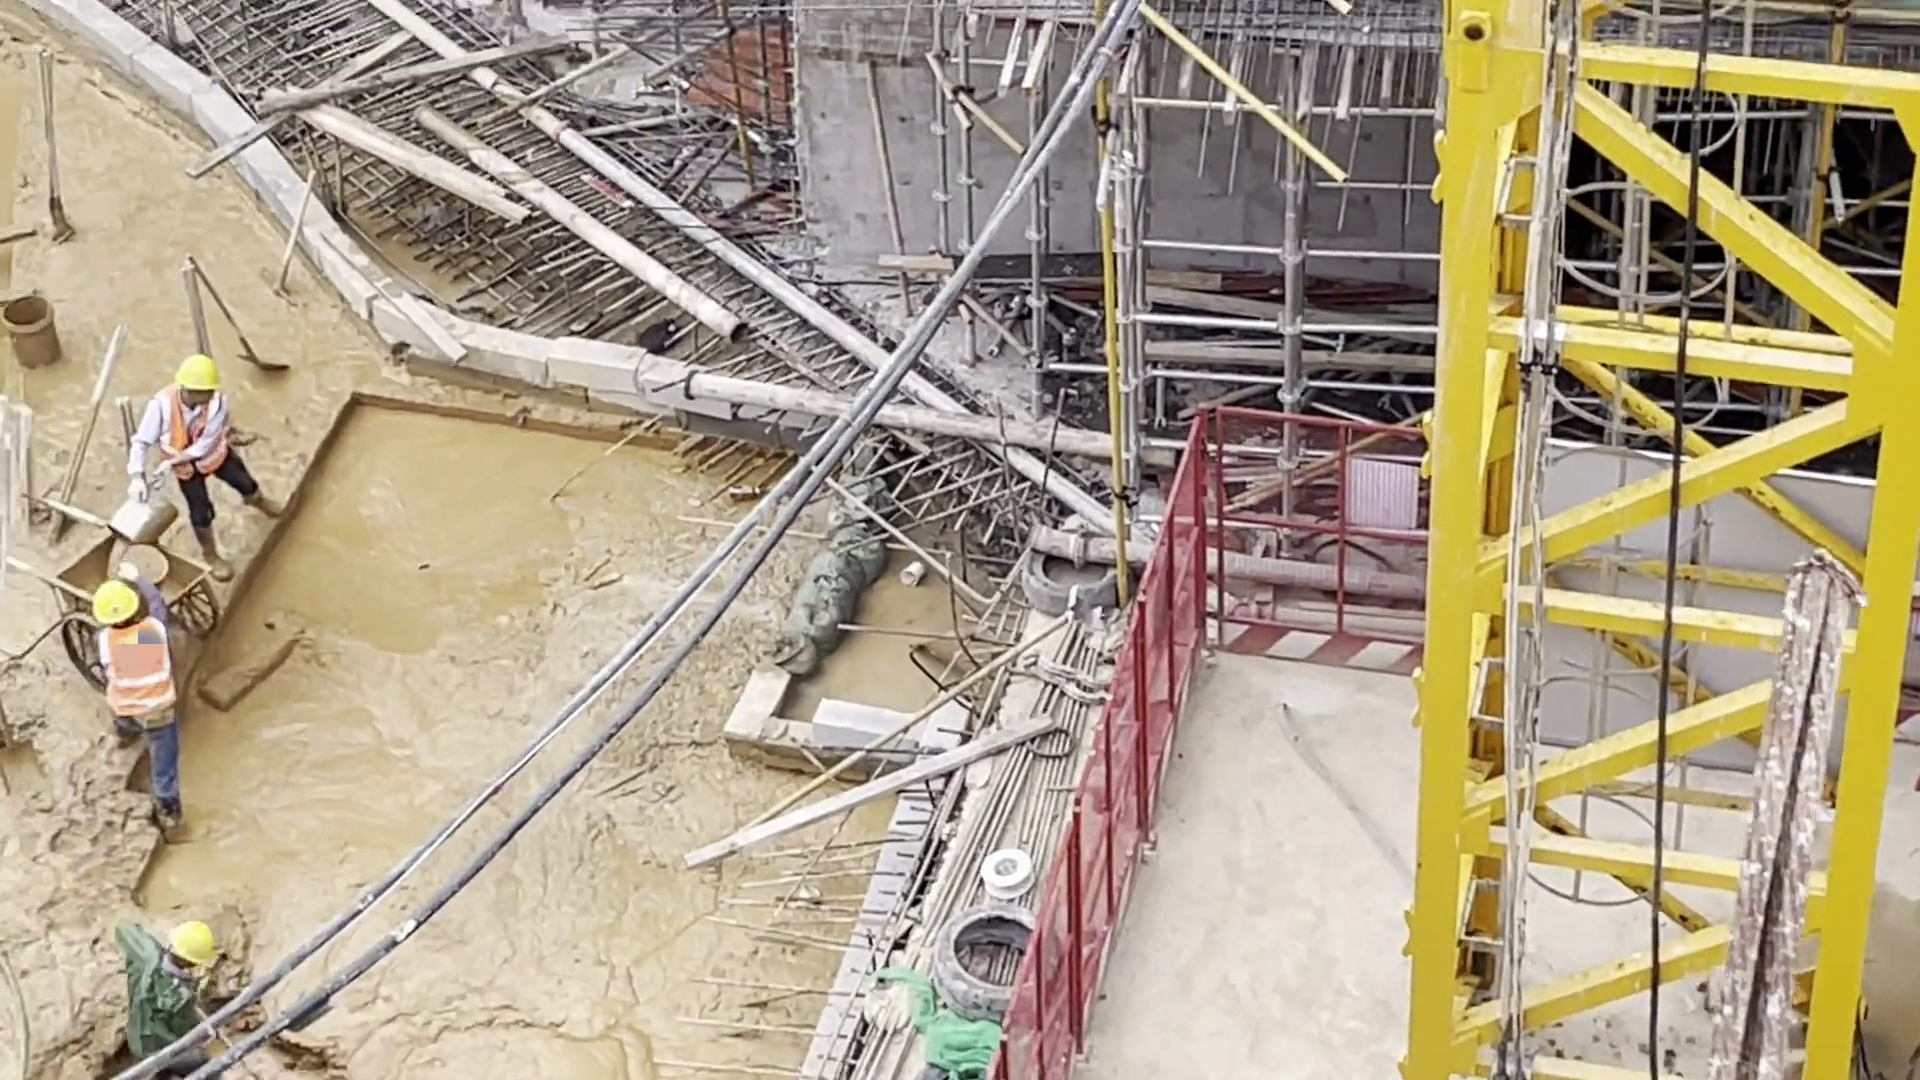fence: (978, 397, 1245, 1080), (1204, 406, 1442, 680)
helmet: (163, 917, 219, 967), (86, 582, 137, 628), (174, 350, 222, 391)
person: (147, 350, 285, 585), (87, 570, 196, 837)
vest: (158, 391, 228, 489), (104, 627, 177, 720)
